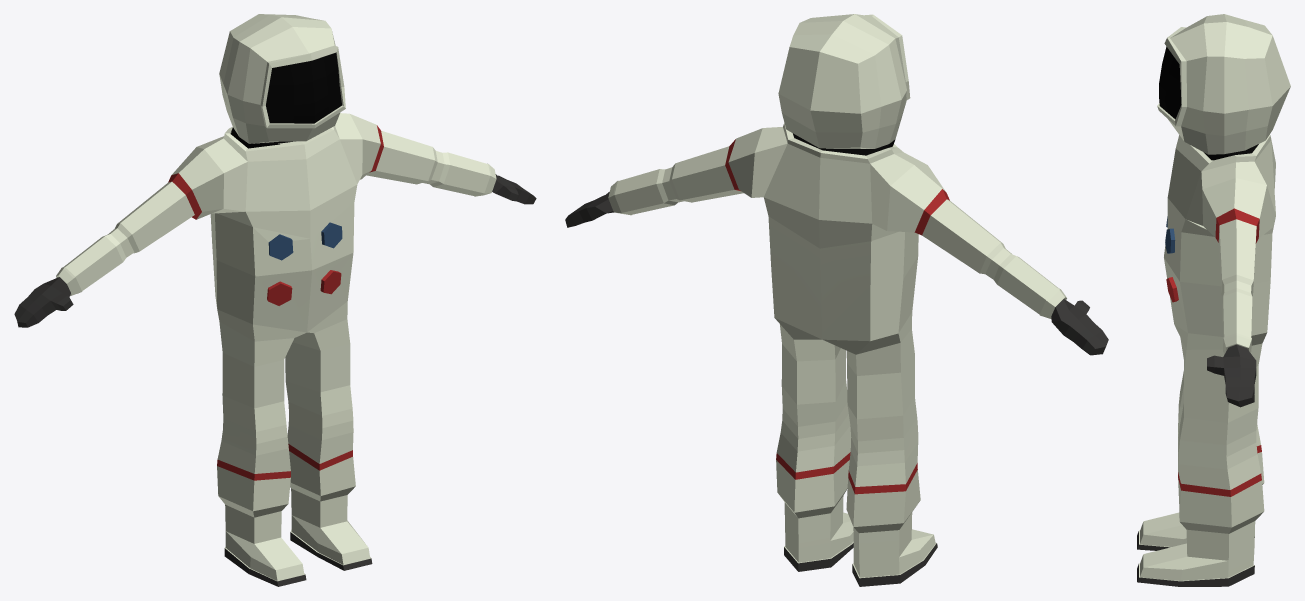
File: astronauta_nobackpack.obj
The picture shows the model from 3 angles, left to right: view 1: azimuth 30°, elevation 25°; view 2: azimuth 150°, elevation 25°; view 3: azimuth 270°, elevation 25°; orthographic projection. The views are drawn at different scales.
Visible parts, largest first — view 1: Astronauta_Cubo; view 2: Astronauta_Cubo; view 3: Astronauta_Cubo.
Part boxes in pixels (<box>): Astronauta_Cubo: <box>14,14,536,586</box>; Astronauta_Cubo: <box>565,14,1108,586</box>; Astronauta_Cubo: <box>1137,14,1290,586</box>.
Bounding box in the file's own units: 1.42 × 1.39 × 0.3602.
